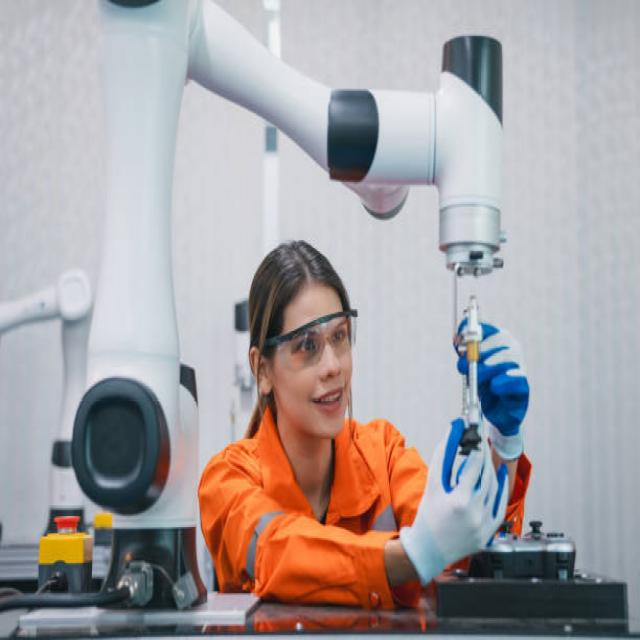Robotic-arm: (79, 0, 511, 535), (0, 268, 88, 486)
